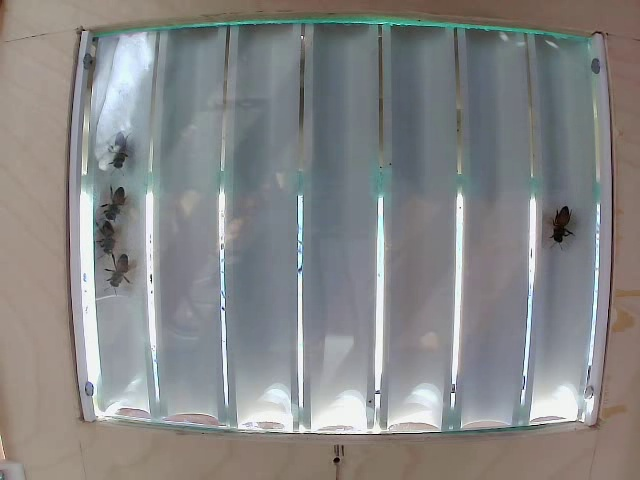bee: (107, 254, 147, 294), (545, 207, 577, 252), (91, 222, 126, 261), (100, 189, 132, 220)
